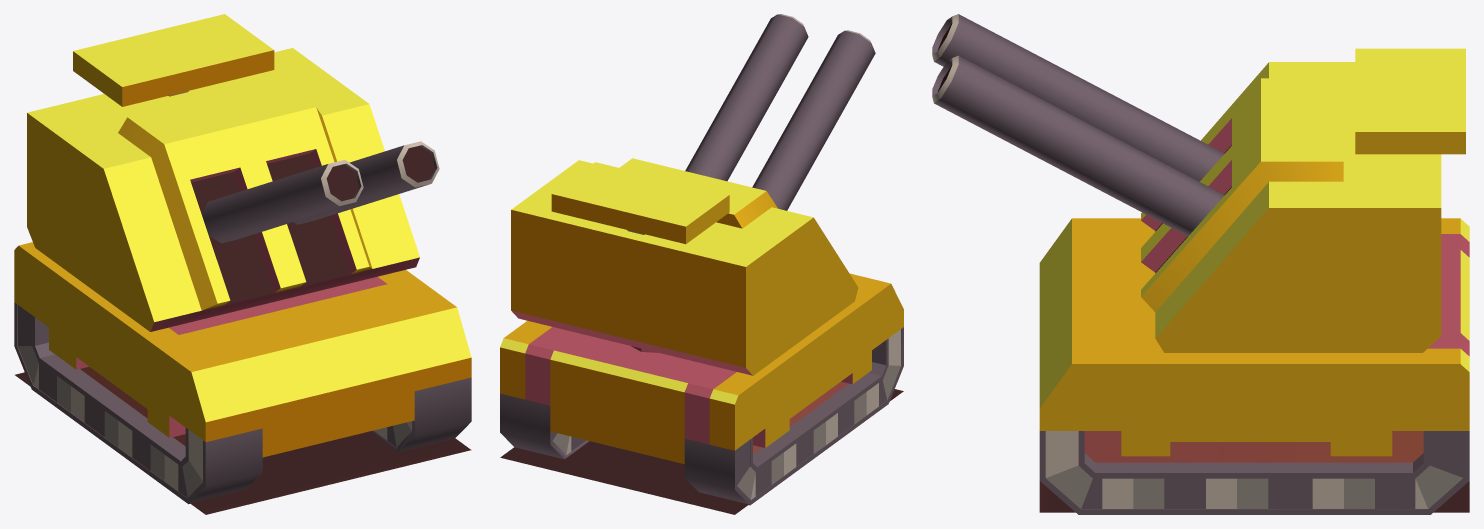
Rendered from AntiAirMesh.YellowComet.glb.
3 renders of one model, left to right at view 1: azimuth 30°, elevation 25°; view 2: azimuth 150°, elevation 25°; view 3: azimuth 270°, elevation 25°, orthographic. The views are drawn at different scales.
Parts seen in each view (by area): view 1: AntiAirMesh.YellowComet; view 2: AntiAirMesh.YellowComet; view 3: AntiAirMesh.YellowComet.
Boxes of the visible parts, bbox=[...] form: AntiAirMesh.YellowComet: bbox=[14, 14, 471, 514]; AntiAirMesh.YellowComet: bbox=[500, 14, 903, 514]; AntiAirMesh.YellowComet: bbox=[932, 14, 1469, 514].
Bounding box in the file's own units: 1.4 × 1.8 × 2.18.
Materials: 1 (1 with a texture image).
